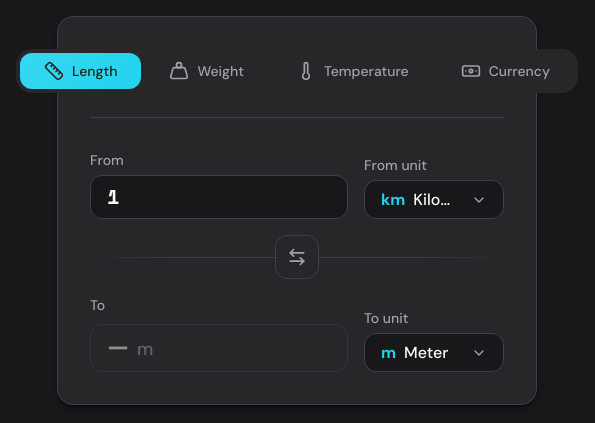
Test: ConverterCard › swap functionality › swaps from and to units when swap button is clicked
The width and height of the screenshot is (595, 423).
// Click swap
Click the button named "swap": (297, 256) [275,234,319,278]
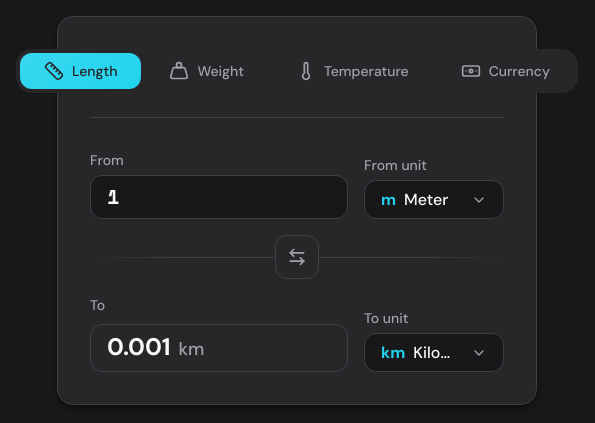
expect the button named "unit" reads "m Meter": met, box [364,180,504,218]
